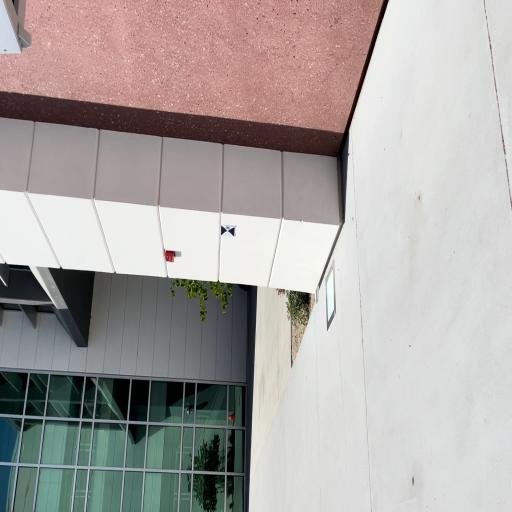target9: (221, 224, 235, 236)
